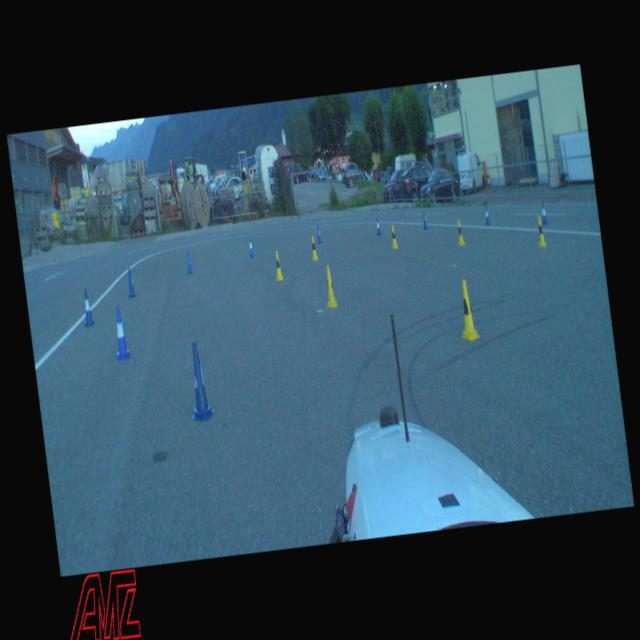blue_cone: (183, 341, 215, 422), (110, 307, 130, 359), (80, 289, 95, 327), (125, 269, 136, 297), (184, 250, 193, 274), (539, 202, 548, 224), (374, 216, 382, 234), (247, 236, 254, 256), (484, 206, 491, 224), (421, 210, 428, 228), (315, 225, 322, 243)
yellow_cone: (454, 279, 480, 341), (322, 264, 338, 308), (534, 216, 546, 247), (272, 250, 284, 280), (389, 224, 398, 249), (309, 235, 318, 260), (456, 219, 464, 245)
